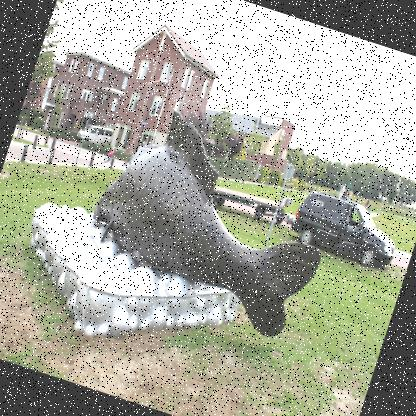Car: (286, 186, 404, 272), (78, 120, 114, 148)
